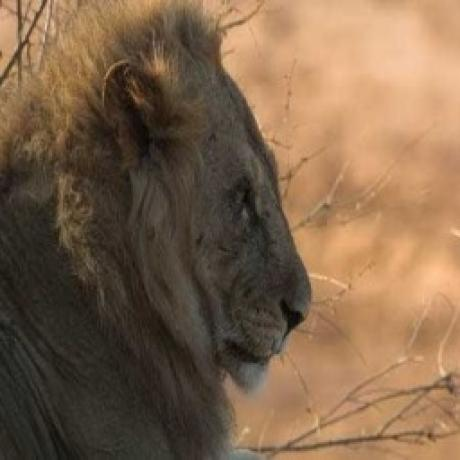Lion: (0, 0, 316, 460)
